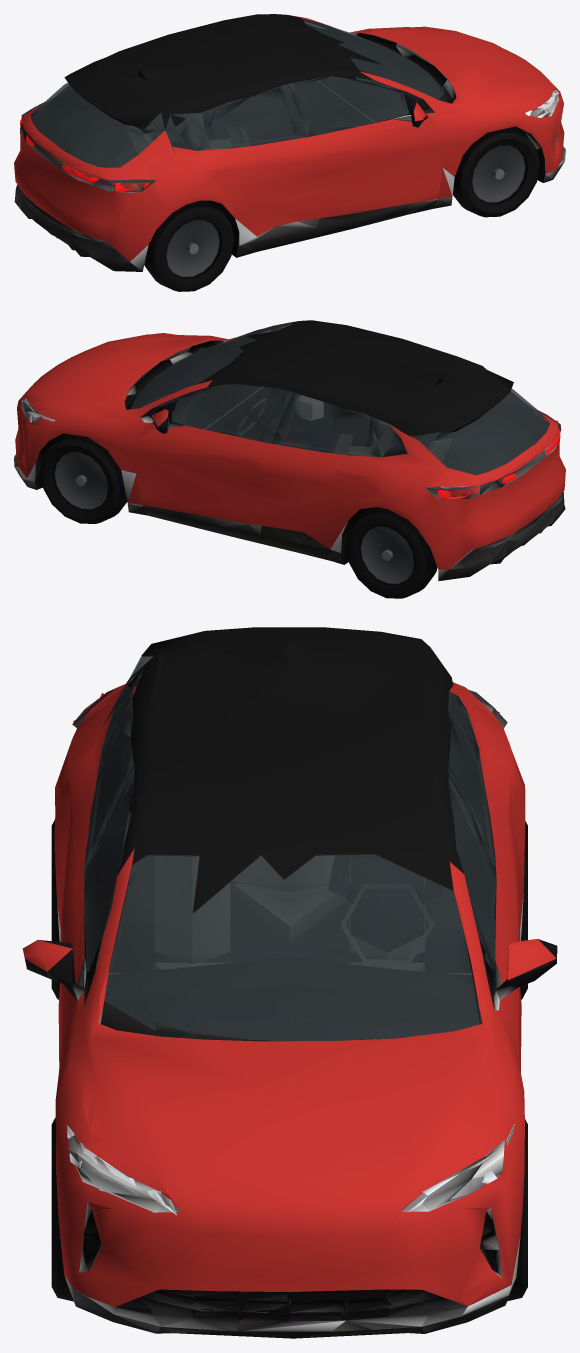
File: rp1_vanta_race.glb
The picture shows the model from 3 angles, top to bottom: view 1: azimuth 30°, elevation 25°; view 2: azimuth 150°, elevation 25°; view 3: azimuth 270°, elevation 25°; orthographic projection. The views are drawn at different scales.
Parts seen in each view (by area): view 1: body, glass, window_R, interior, tyre_RR, tyre_FR, rim_FR, rim_RR, driver, taillight_lens; view 2: body, glass, window_L, interior, tyre_RL, tyre_FL, rim_FL, rim_RL, driver, taillight_lens; view 3: body, glass, interior, driver, window_R, window_L, headlight_lens, steering_wheel, tyre_FR, tyre_FL.
Boxes of the visible parts, x1,y1,x2,y2 form: body: (14, 14, 565, 271); glass: (30, 18, 443, 167); window_R: (286, 76, 422, 136); interior: (127, 76, 405, 154); tyre_RR: (144, 200, 234, 291); tyre_FR: (453, 127, 539, 217); rim_FR: (472, 145, 525, 202); rim_RR: (166, 220, 219, 276); driver: (201, 95, 256, 136); taillight_lens: (20, 106, 149, 192); body: (14, 320, 565, 581); glass: (130, 322, 549, 475); window_L: (165, 384, 292, 443); interior: (174, 384, 453, 462); tyre_RL: (346, 507, 437, 598); tyre_FL: (40, 434, 127, 523); rim_FL: (54, 452, 107, 509); rim_RL: (360, 526, 414, 583); driver: (246, 395, 336, 452); taillight_lens: (438, 417, 560, 499); body: (22, 627, 557, 1338); glass: (84, 655, 495, 1041); interior: (105, 856, 479, 1022); driver: (328, 855, 441, 952); window_R: (84, 769, 134, 972); window_L: (448, 772, 496, 971); headlight_lens: (67, 1124, 514, 1215); steering_wheel: (340, 884, 433, 963); tyre_FR: (51, 1117, 73, 1301); tyre_FL: (507, 1119, 527, 1301).
Bounding box in the file's own units: 4.6 × 1.58 × 2.14.
